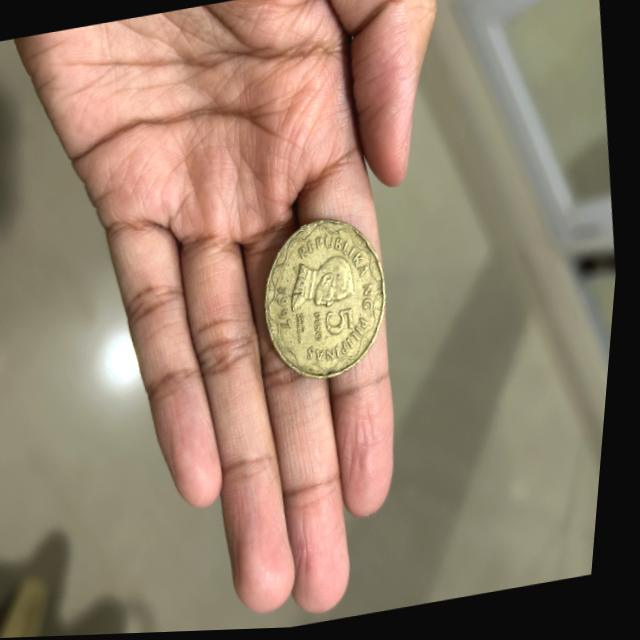5_Old_Front: (312, 301, 369, 356)
